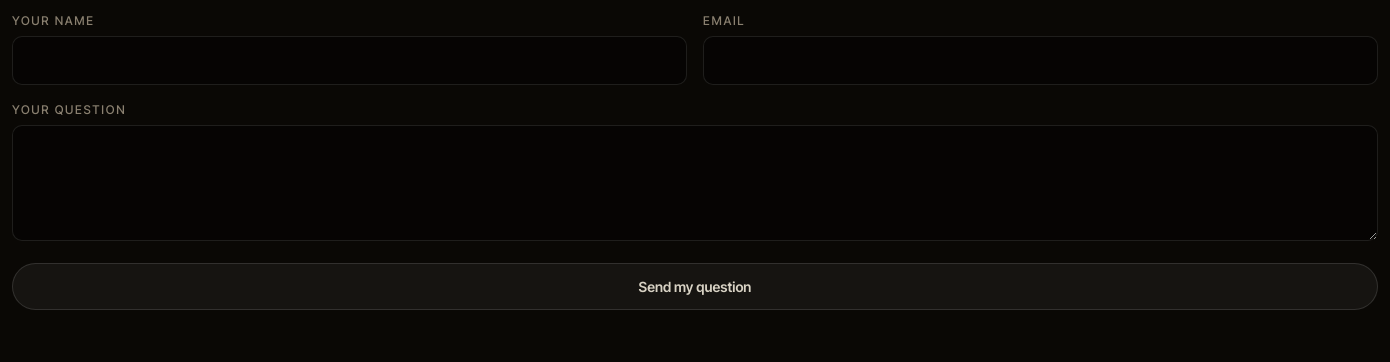
Test: QuestionForm › shows the server’s message, or the fallback with Alex’s address when sending fails
This screenshot has width=1390, height=362.
Type "June" into the field labelled "Your name".
click(350, 60); type("June")  # box [12,36,687,84]
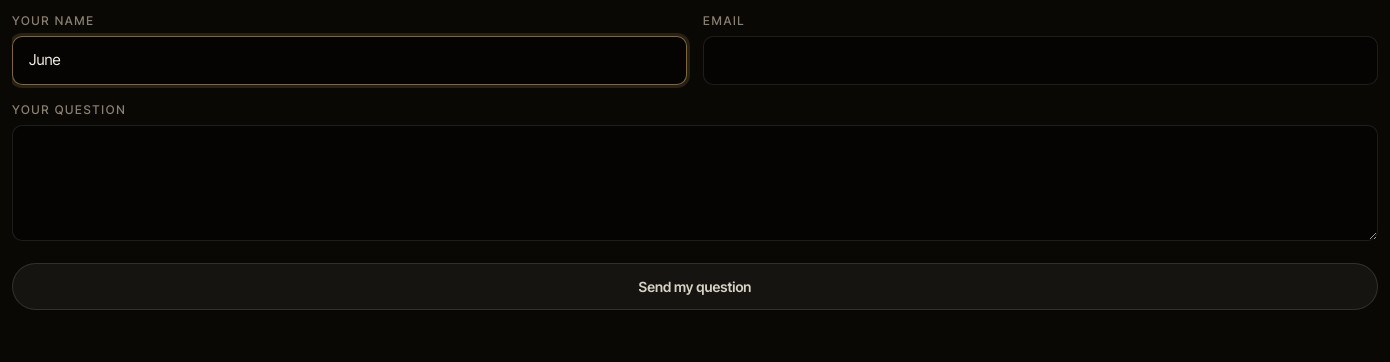
Type "june@example.com" into the field labelled "Email".
click(1040, 60); type("june@example.com")  # box [703,36,1378,84]
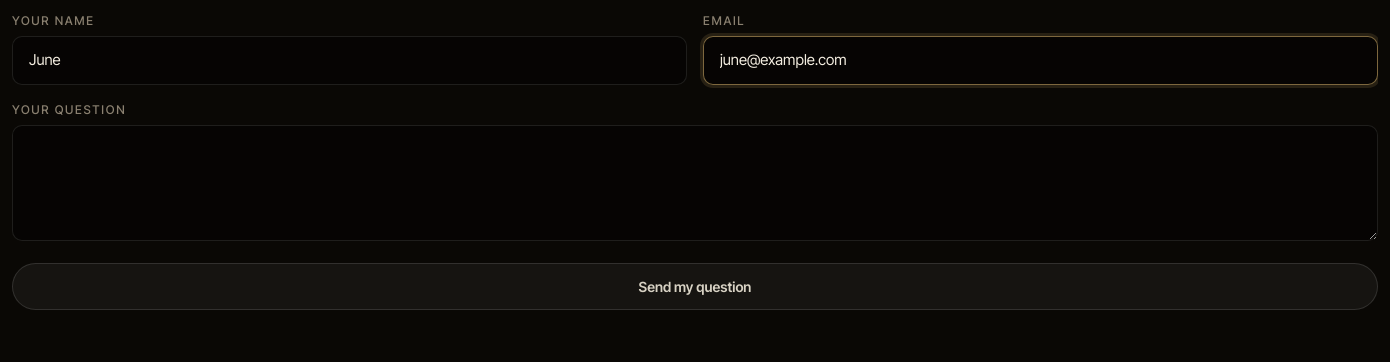
Type "Can I sell digital patterns?" into the text box labelled "Your question".
click(695, 182); type("Can I sell digital patterns?")  # box [12,124,1378,240]
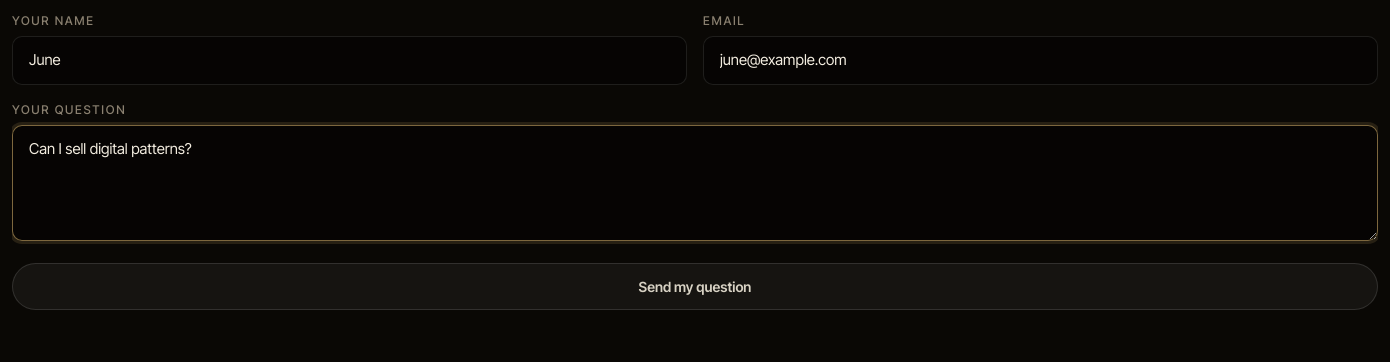
Click the button "Send my question".
click(695, 286)  # box [12,262,1378,310]
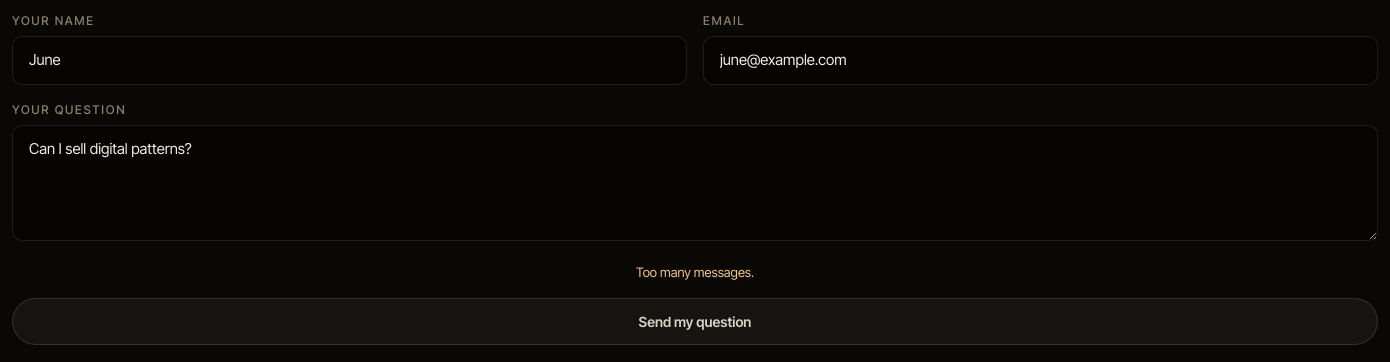
Result: the message reads "Too many messages." at [636,264,754,280]
Type "?" into the text box labelled "Your question".
click(695, 182); type("?")  # box [12,124,1378,240]
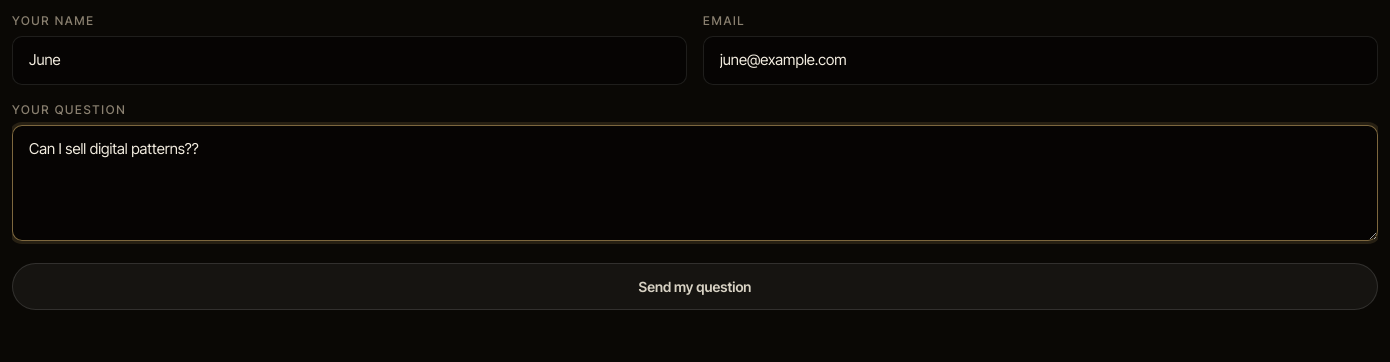
Click the button "Send my question".
click(695, 286)  # box [12,262,1378,310]
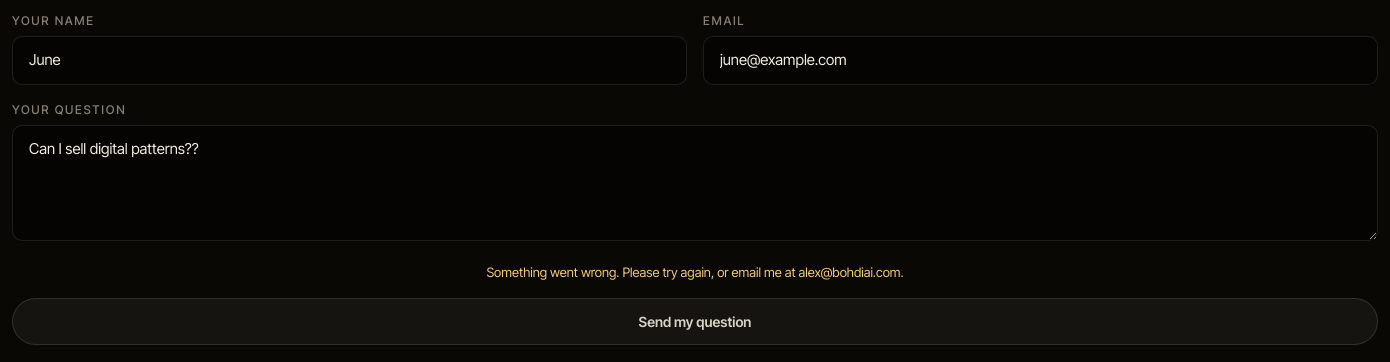
Result: the message shows "email me at" at [486,264,904,280]
